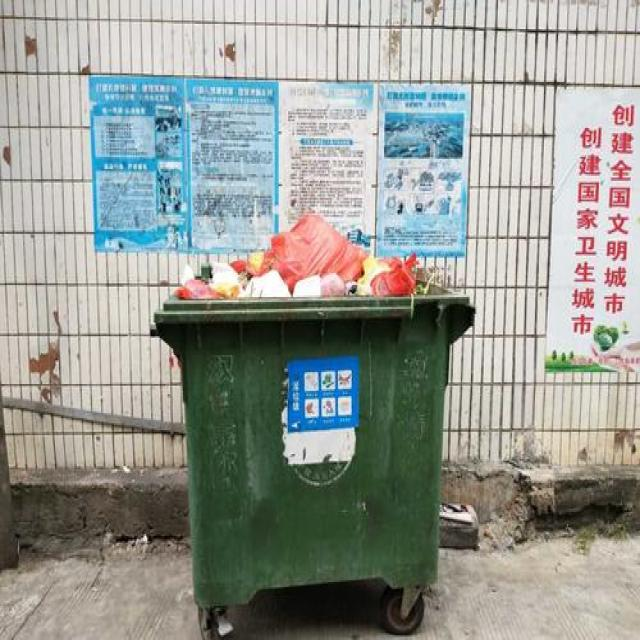overflow: (154, 212, 474, 606)
